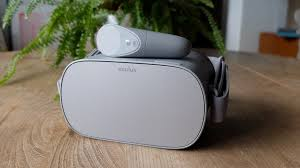oculus: (56, 45, 235, 155)
